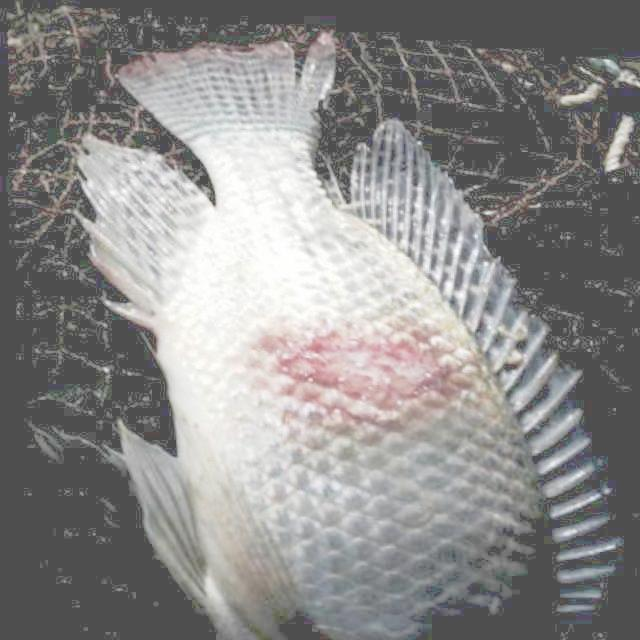Tilapia Lake Virus -TiLV-: (78, 35, 609, 640)
